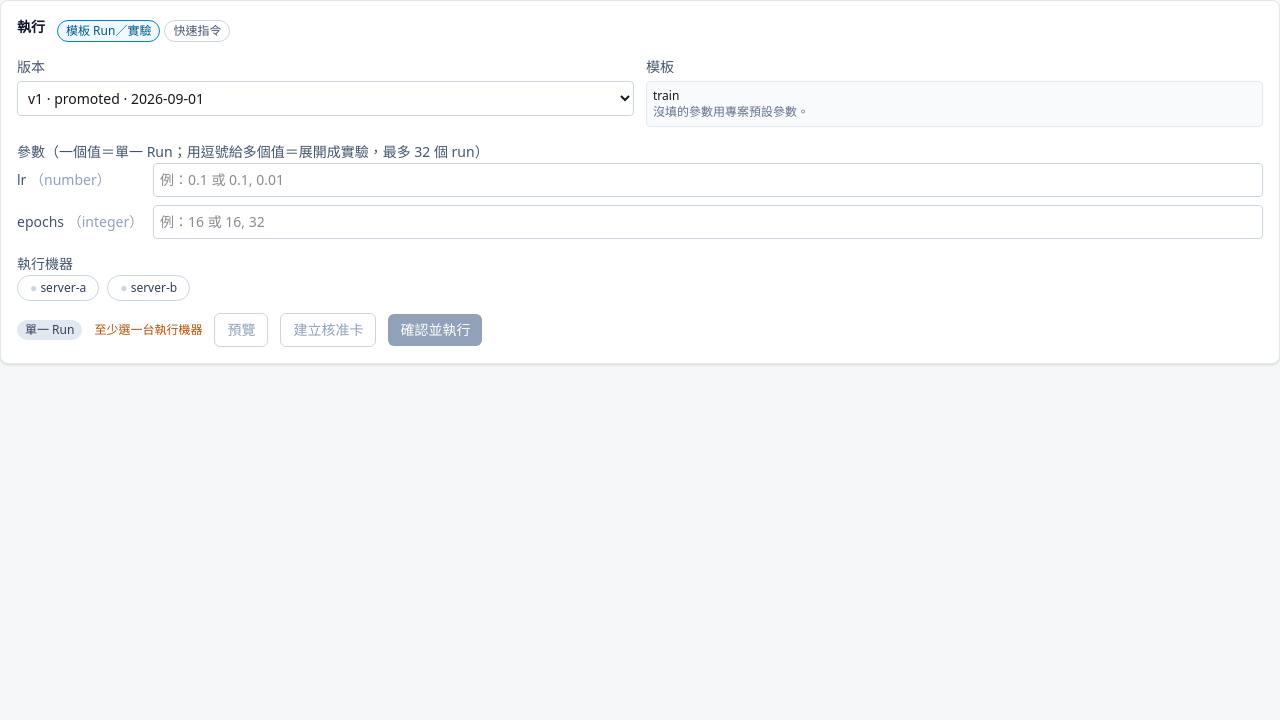
Test: RunComposer (整頓 U6) › expands a list value into an experiment (preview → card)
Type "0.1, 0.01" into the field with placeholder "例：0.1 或 0.1, 0.01" at x=708, y=180, box [153, 163, 1263, 197]
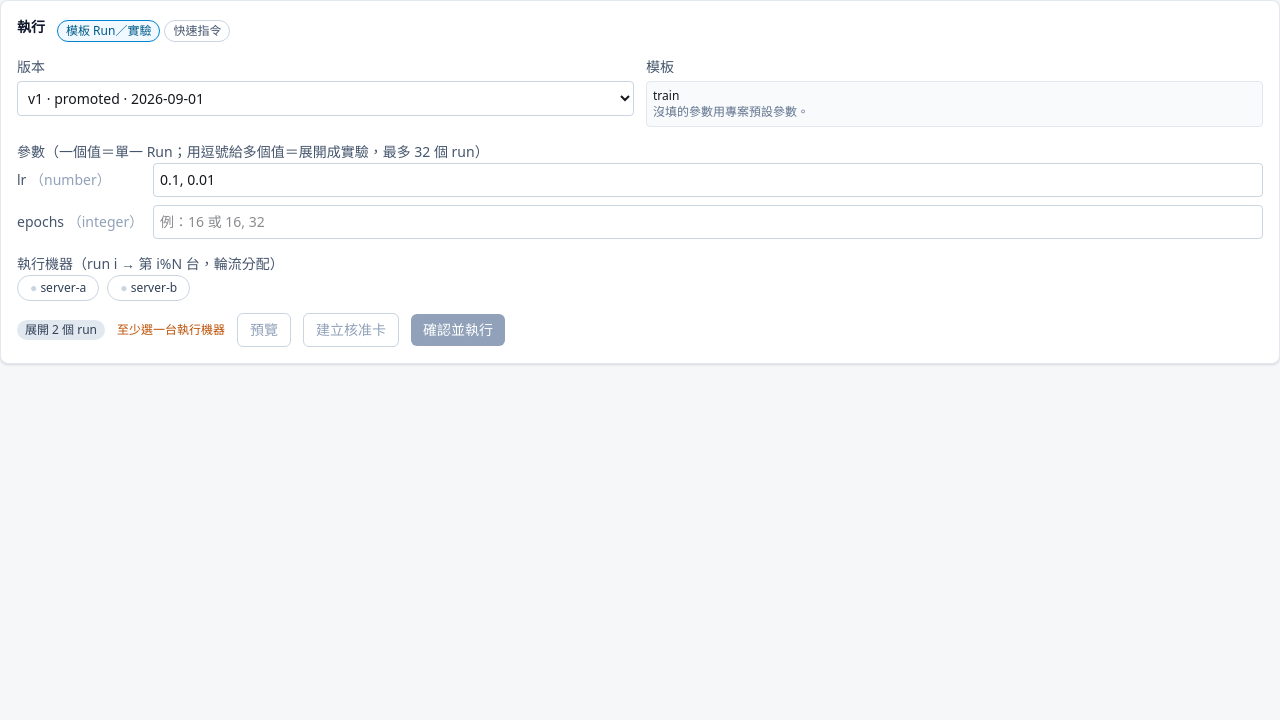
Expected: the text "展開 2 個 run" is shown, [17, 320, 105, 340]
Click the button "● server-a" at x=58, y=288, box [17, 275, 99, 301]
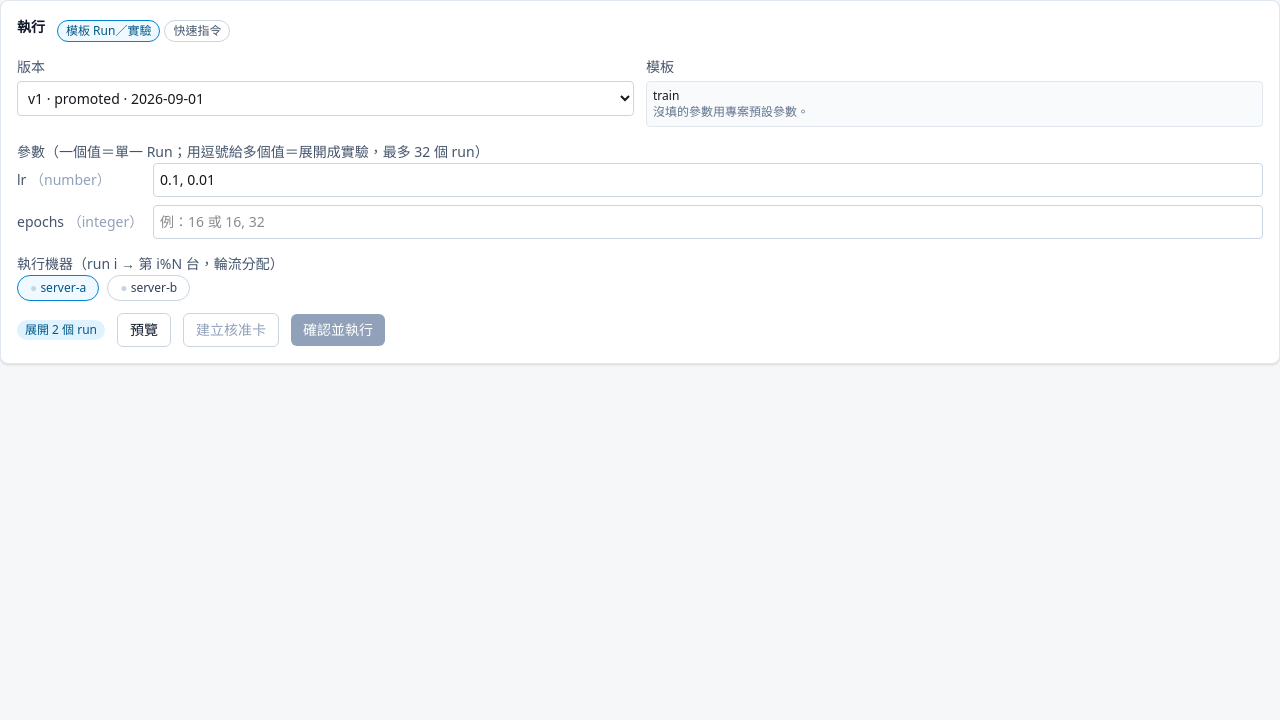
Click the button "● server-b" at x=149, y=288, box [107, 275, 190, 301]
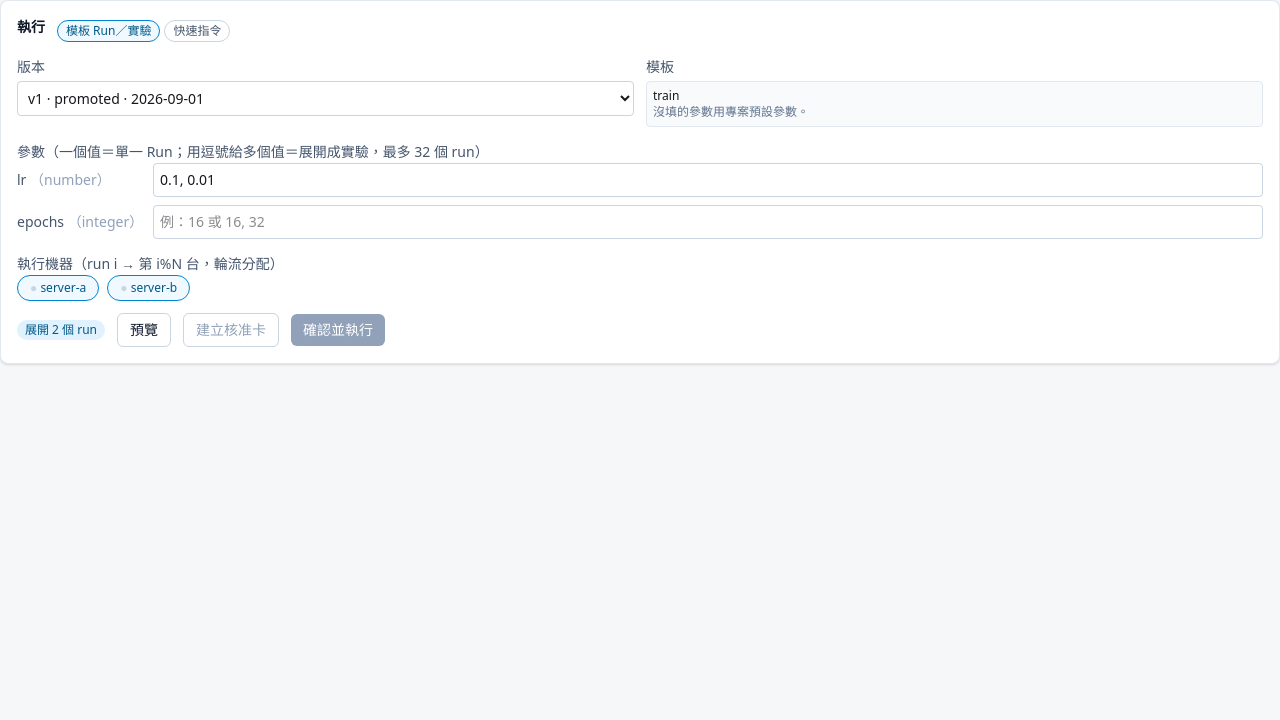
Click the button "預覽" at x=144, y=330, box [117, 313, 171, 347]
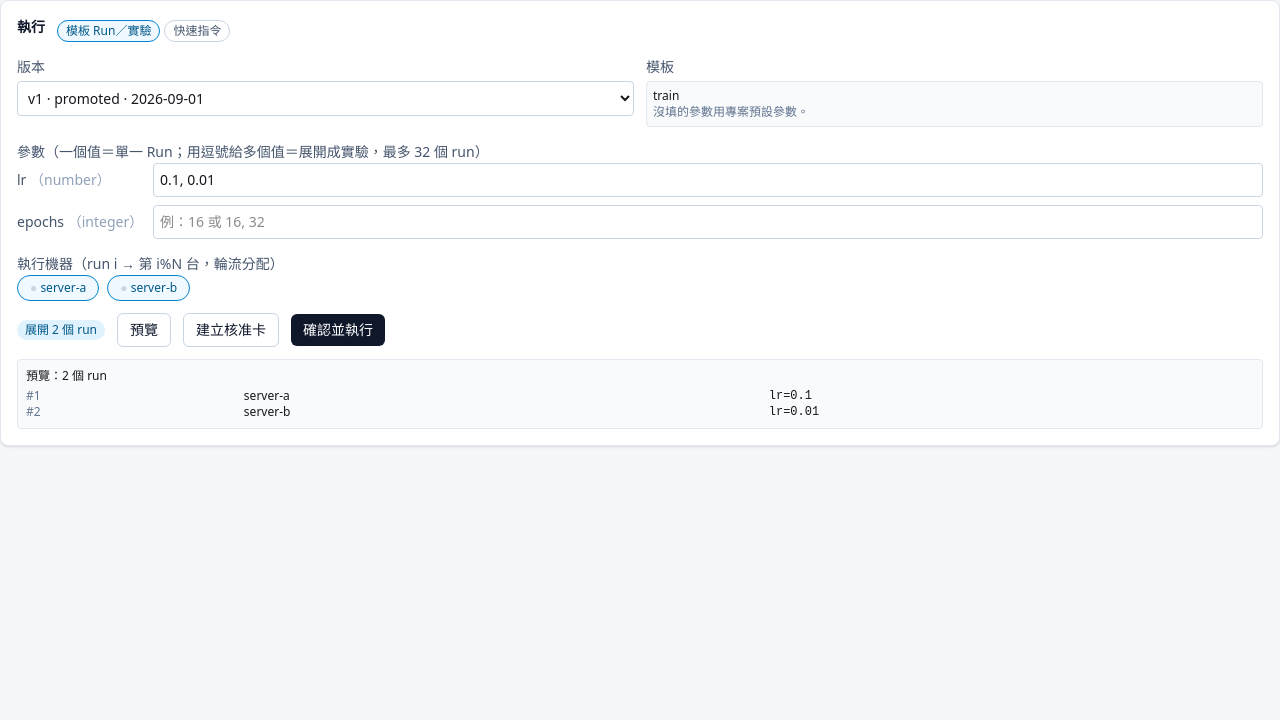
Expected: the text "預覽：2 個 run" is shown, [26, 367, 107, 384]
Click the button "建立核准卡" at x=231, y=330, box [183, 313, 279, 347]
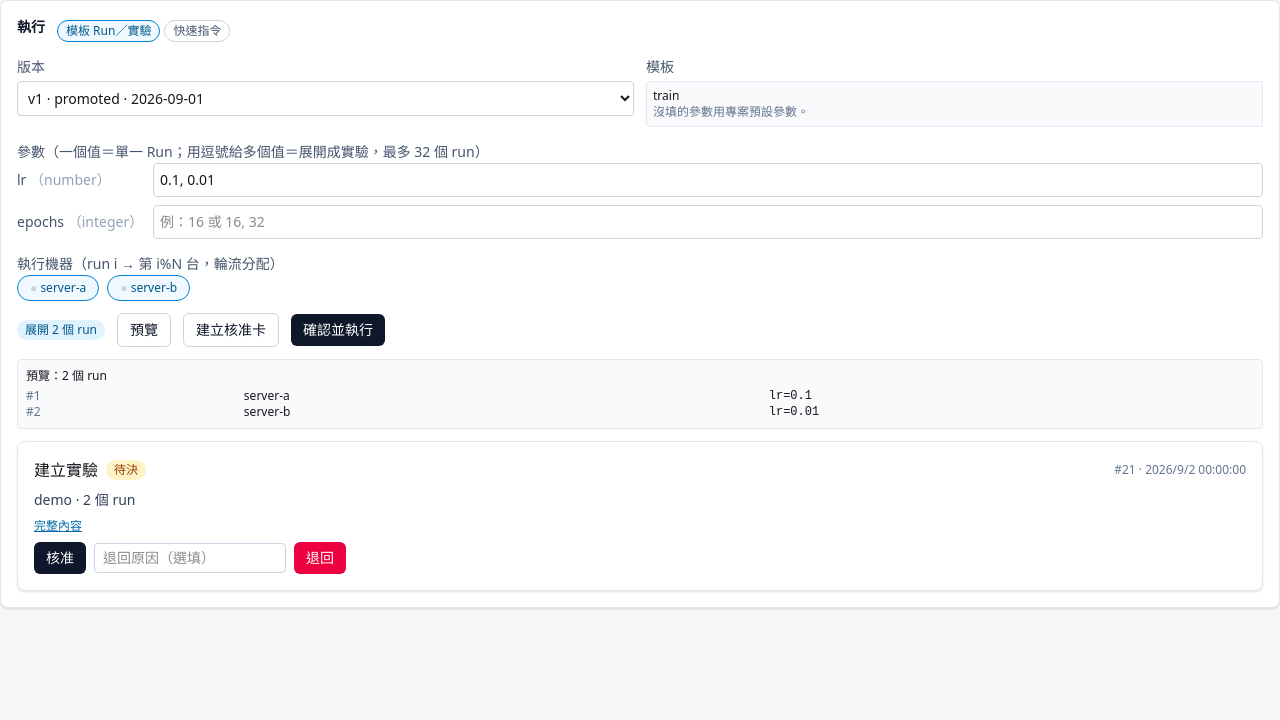
Expected: the text "建立實驗" is shown, [34, 458, 98, 482]
